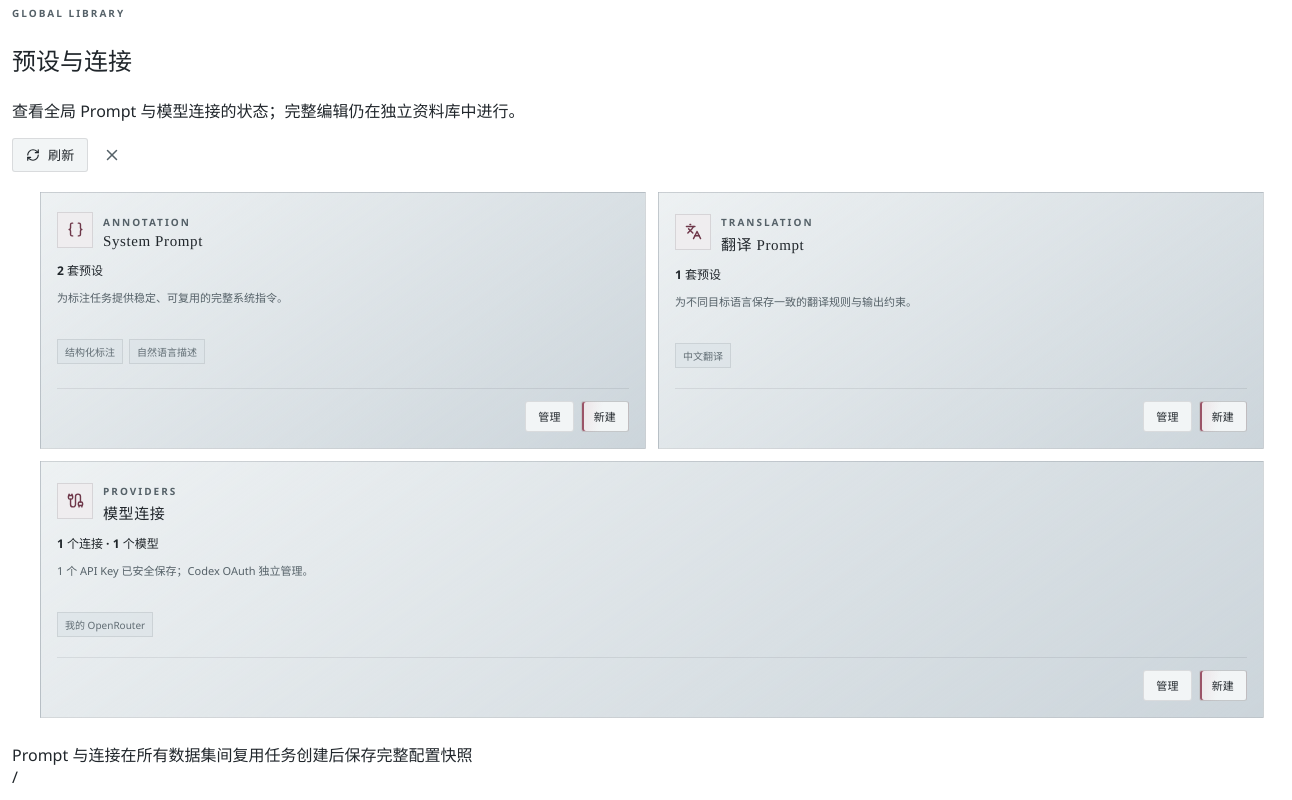
Test: settings overview sections › summarizes preset resources and deep-links into creation
Expected: the text "2 套预设" is shown, [57,262,103,279]
Expected: the text "1 套预设" is shown, [675,266,721,283]
Click the button with aria-label "新建System Prompt". click: (605, 416)
box: [581,401,629,432]
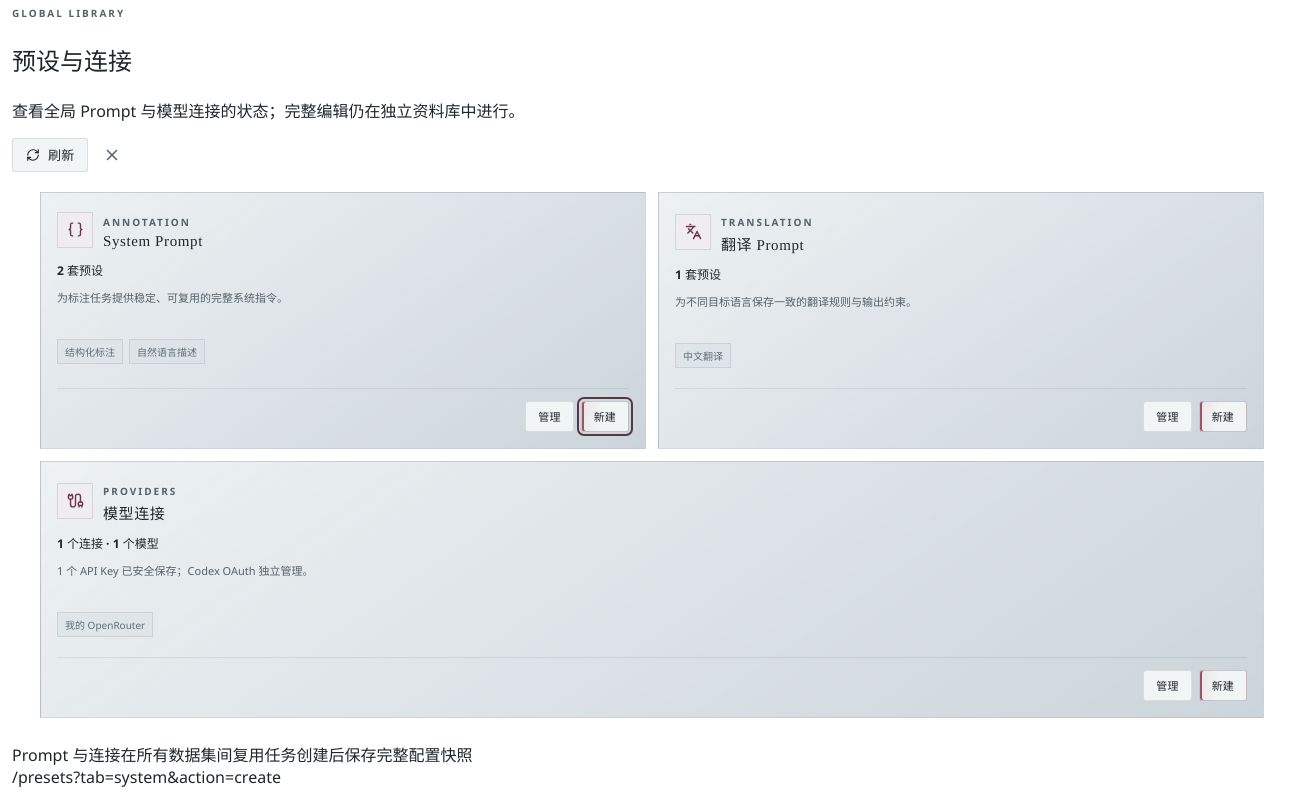
Expected: the text named "当前位置" reads "/presets?tab=system&action=create", [12,766,281,788]
